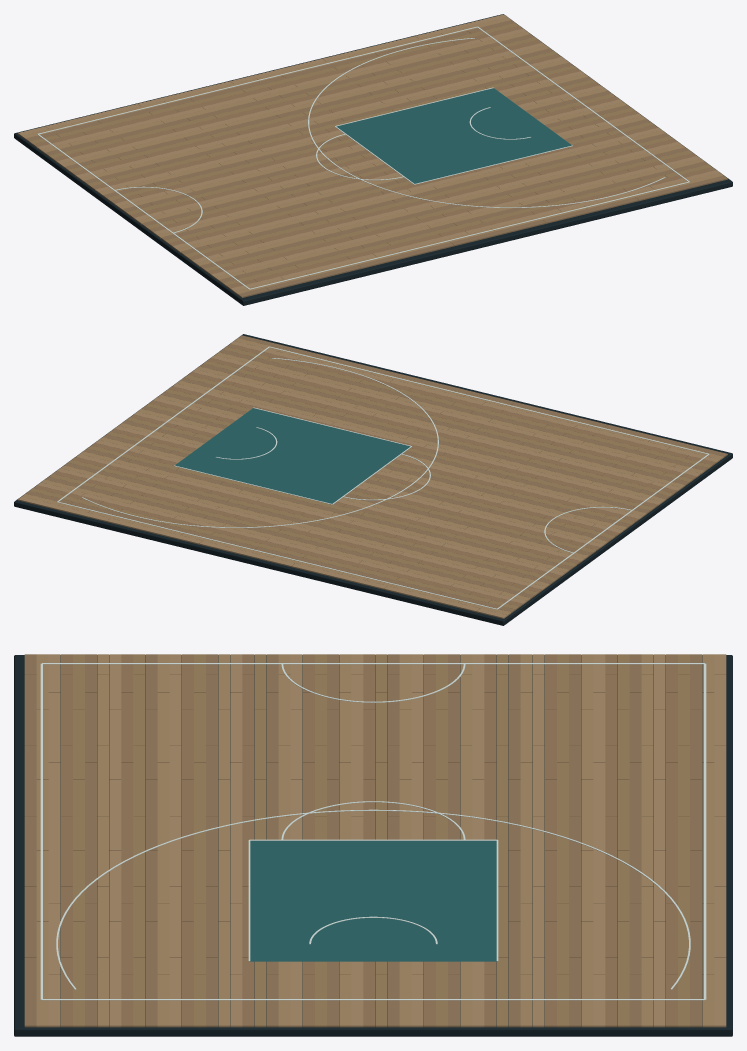
File: court.glb
3 renders of one model, top to bottom at view 1: azimuth 30°, elevation 25°; view 2: azimuth 150°, elevation 25°; view 3: azimuth 270°, elevation 25°, orthographic. The views are drawn at different scales.
Parts seen in each view (by area): view 1: Training key, Court foundation, Maple court plank.057, Maple court plank, Maple court plank.041, Maple court plank.042, Maple court plank.014, Maple court plank.017, Maple court plank.043, Maple court plank.047, Maple court plank.048, Maple court plank.013 (+50 smaller); view 2: Training key, Court foundation, Maple court plank, Maple court plank.057, Maple court plank.016, Maple court plank.002, Maple court plank.043, Maple court plank.044, Maple court plank.010, Maple court plank.015, Maple court plank.040, Maple court plank.045 (+50 smaller); view 3: Training key, Court foundation, Maple court plank, Maple court plank.057, Maple court plank.016, Maple court plank.017, Maple court plank.040, Maple court plank.046, Maple court plank.009, Maple court plank.045, Maple court plank.049, Maple court plank.047 (+52 smaller).
Boxes of the visible parts, <box> form: Training key: <box>336,88,571,183</box>; Court foundation: <box>14,14,732,305</box>; Maple court plank.057: <box>238,175,727,297</box>; Maple court plank: <box>18,14,507,136</box>; Maple court plank.041: <box>176,130,665,252</box>; Maple court plank.042: <box>180,133,669,255</box>; Maple court plank.014: <box>72,54,561,176</box>; Maple court plank.017: <box>83,62,572,184</box>; Maple court plank.043: <box>184,136,673,258</box>; Maple court plank.047: <box>199,147,688,269</box>; Maple court plank.048: <box>203,150,692,272</box>; Maple court plank.013: <box>68,51,557,173</box>; Training key: <box>175,408,410,503</box>; Court foundation: <box>14,334,732,625</box>; Maple court plank: <box>18,496,507,618</box>; Maple court plank.057: <box>238,335,727,457</box>; Maple court plank.016: <box>80,451,569,573</box>; Maple court plank.002: <box>26,491,515,613</box>; Maple court plank.043: <box>184,375,673,496</box>; Maple court plank.044: <box>188,372,677,494</box>; Maple court plank.010: <box>57,468,546,590</box>; Maple court plank.015: <box>76,454,565,576</box>; Maple court plank.040: <box>173,383,662,505</box>; Maple court plank.045: <box>192,369,681,491</box>; Training key: <box>249,841,497,961</box>; Court foundation: <box>14,655,732,1036</box>; Maple court plank: <box>714,654,726,1027</box>; Maple court plank.057: <box>24,654,36,1027</box>; Maple court plank.016: <box>520,654,532,1027</box>; Maple court plank.017: <box>508,654,520,1027</box>; Maple court plank.040: <box>230,654,242,1027</box>; Maple court plank.046: <box>157,654,169,1027</box>; Maple court plank.009: <box>605,654,617,1027</box>; Maple court plank.045: <box>169,654,181,1027</box>; Maple court plank.049: <box>121,654,133,1027</box>; Maple court plank.047: <box>145,654,157,1027</box>.
Size of the model in its own units: 17.5 by 0.239 by 14.2.
